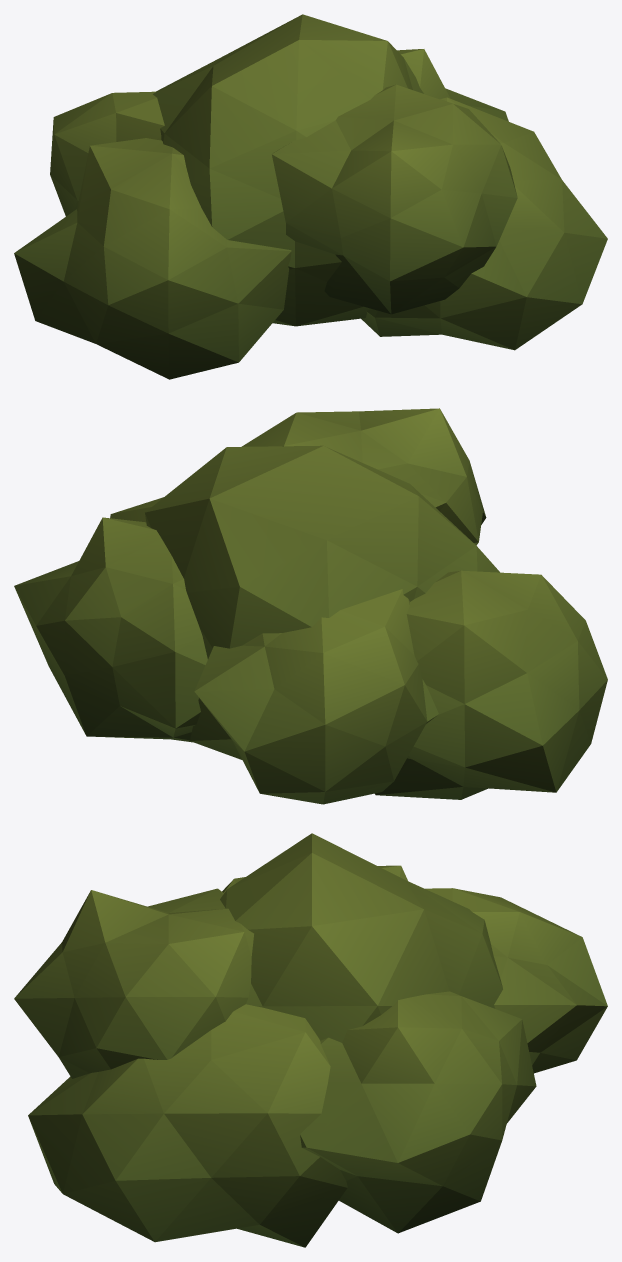
The model's file is copa-tipica-b.glb.
3 views of the same model, one above another, from view 1: azimuth 30°, elevation 25°; view 2: azimuth 150°, elevation 25°; view 3: azimuth 270°, elevation 25° (orthographic). The views are drawn at different scales.
Visible parts, largest first — view 1: copa-tipica-b; view 2: copa-tipica-b; view 3: copa-tipica-b.
Boxes of the visible parts, left/top/right/bottom form: copa-tipica-b: left=14, top=14, right=607, bottom=379; copa-tipica-b: left=14, top=408, right=607, bottom=804; copa-tipica-b: left=14, top=833, right=607, bottom=1247.
Size of the model in its own units: 5.04 by 2.9 by 4.79.
